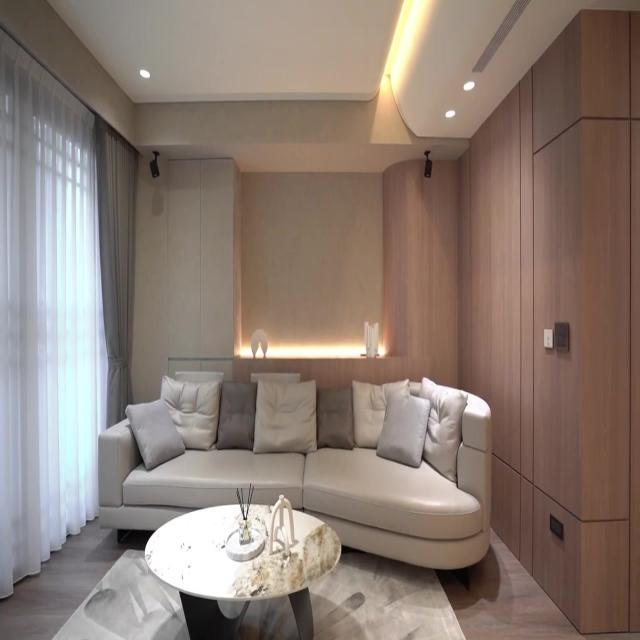obstacle: (97, 372, 492, 590), (144, 502, 342, 638)
